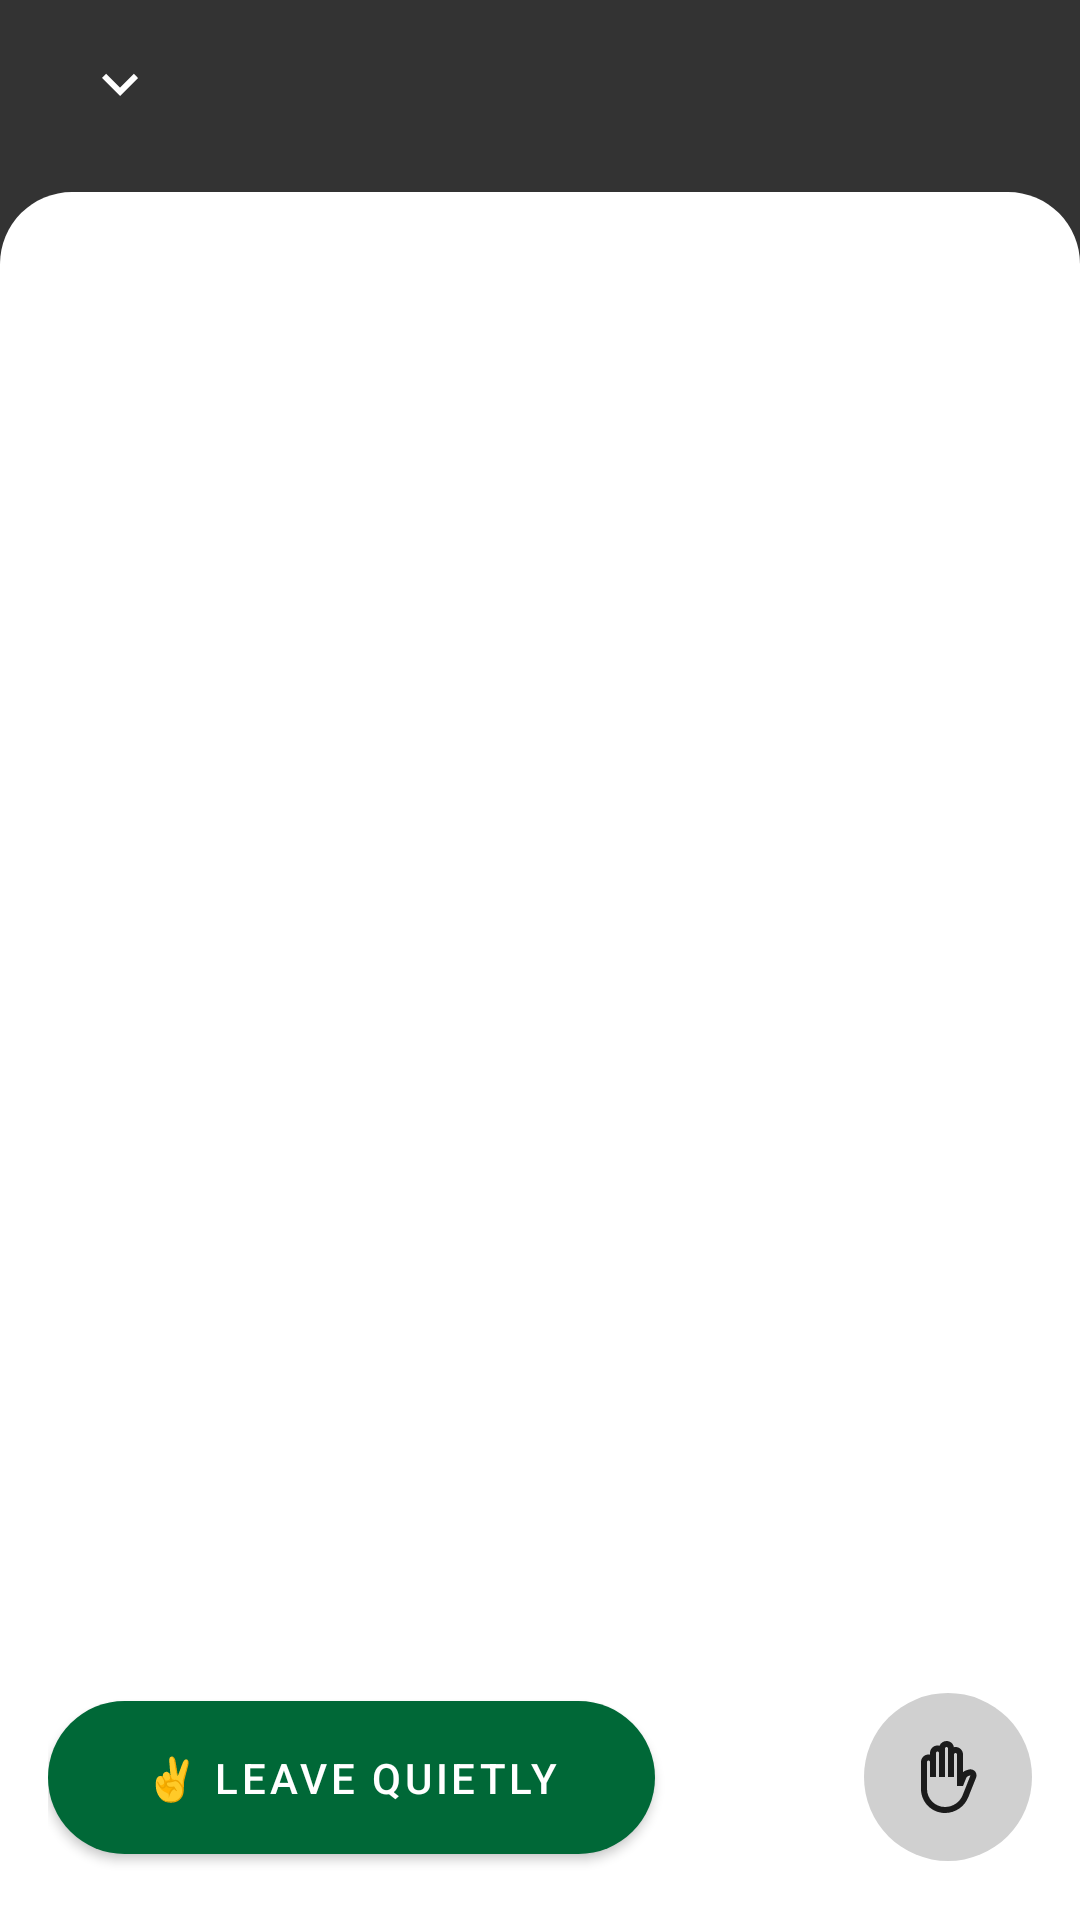

Point at icon controls on the screen. Image size 1080px x 1920px, points as [x,y].
Close: [120,85]
hand: [948,1777]
